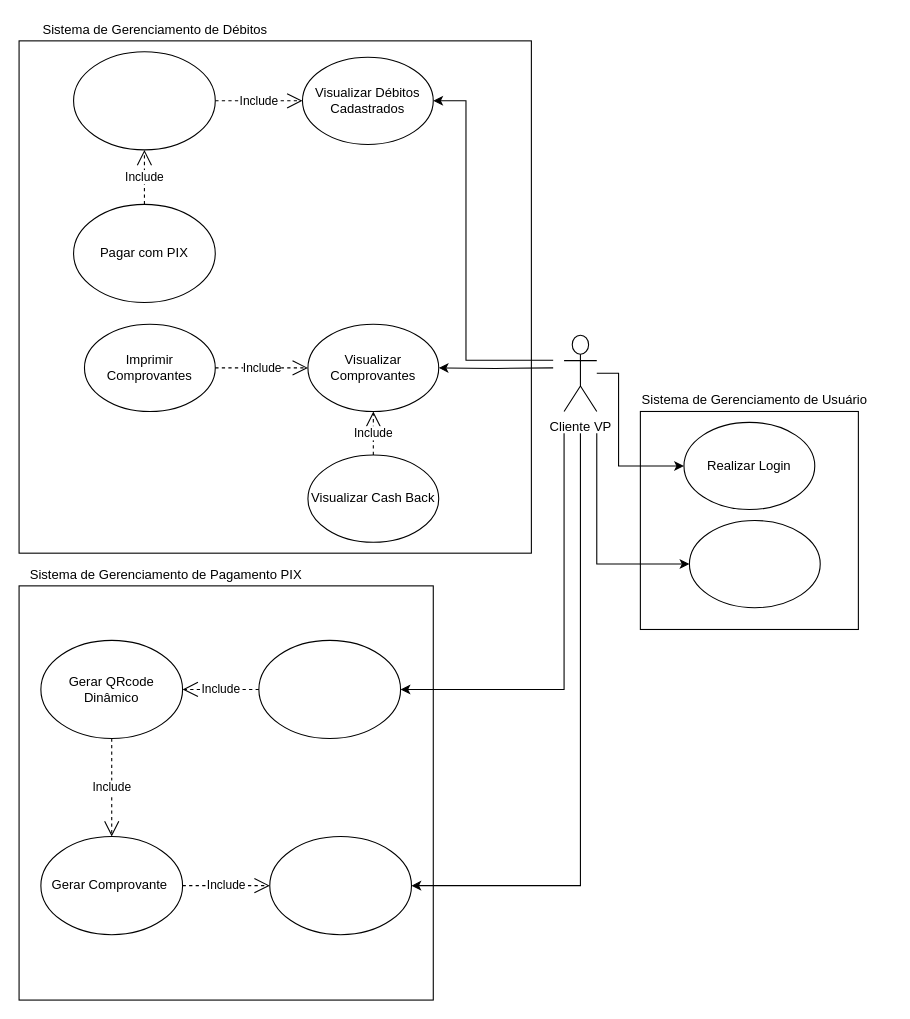
This 910x1019 diagram has some shape labels left out. The centre of each missing label's shape, as x and y in pixels:
"Editar Perfil" goes at (x=754, y=563).
"Realizar Pagamento com PIX" goes at (x=329, y=688).
"Receber Cash Back" goes at (x=340, y=885).
"Selecionar Débitos para Pagamento" goes at (x=143, y=100).
